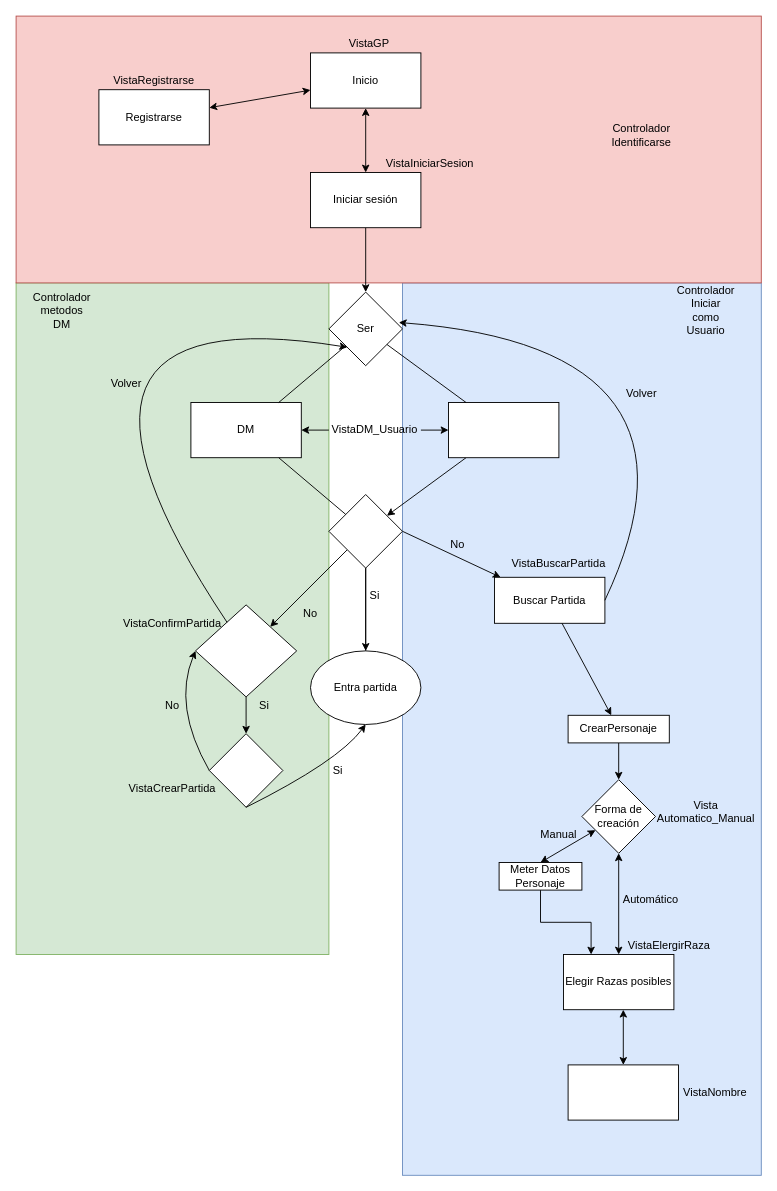
This 777x1191 diagram has some shape labels left out. Here are the shapes that lost their labels. From the top down, the centre of each, then its label:
At (x=503, y=430): "Usuario".
At (x=365, y=531): "¿Tiene partida?".
At (x=246, y=650): "¿Quieres crear Partida?".
At (x=245, y=770): "¿Crear?".
At (x=622, y=1092): "Introducir nombre personaje".
